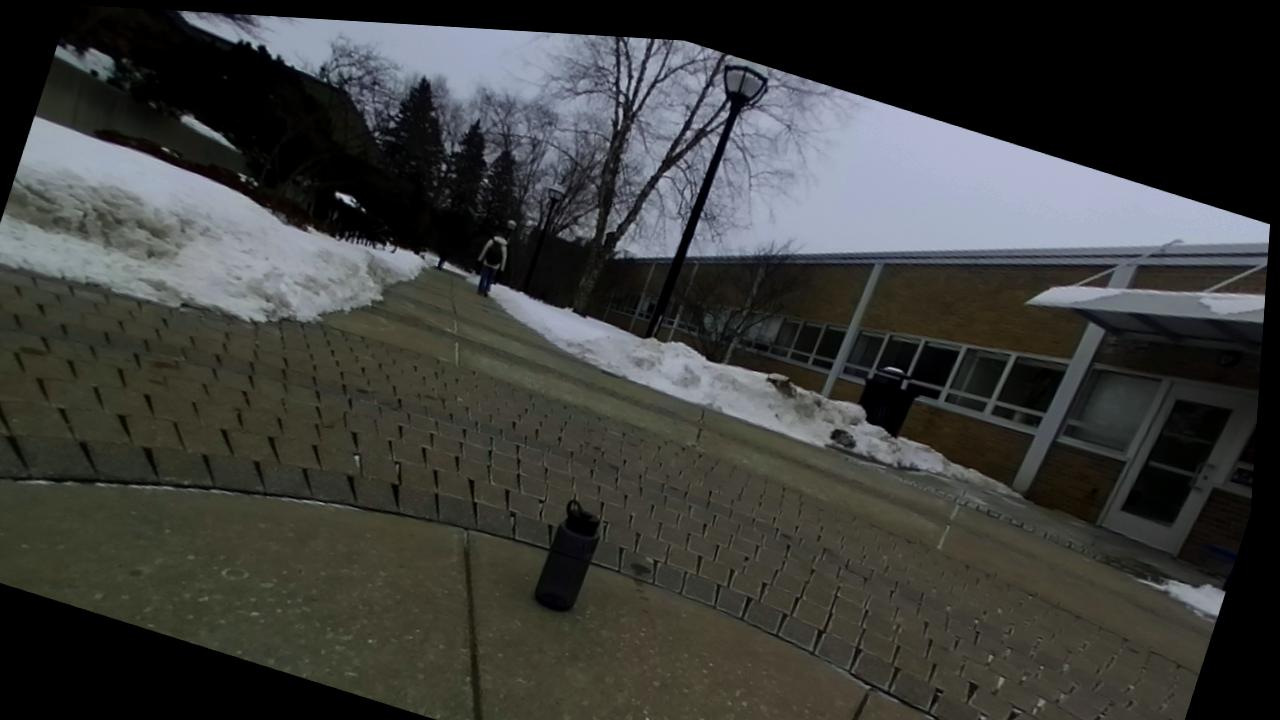bottle: (534, 499, 599, 609)
